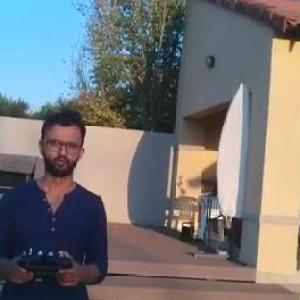follow: (0, 101, 114, 299)
